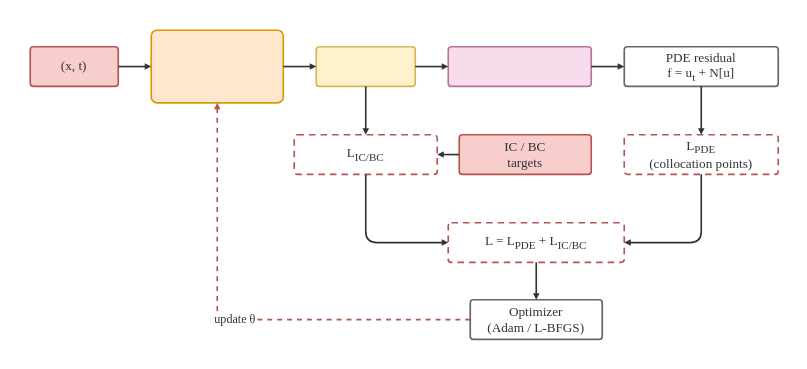
Image size: 807x369. Some labels were removed from this diagram. Each missing label, with the centre of its shape:
"Autodiff u t , u x , u xx" belongs at [519,66].
"Fully connected network u θ (tanh)" belongs at [217,66].
"u(x, t)" belongs at [365,66].
